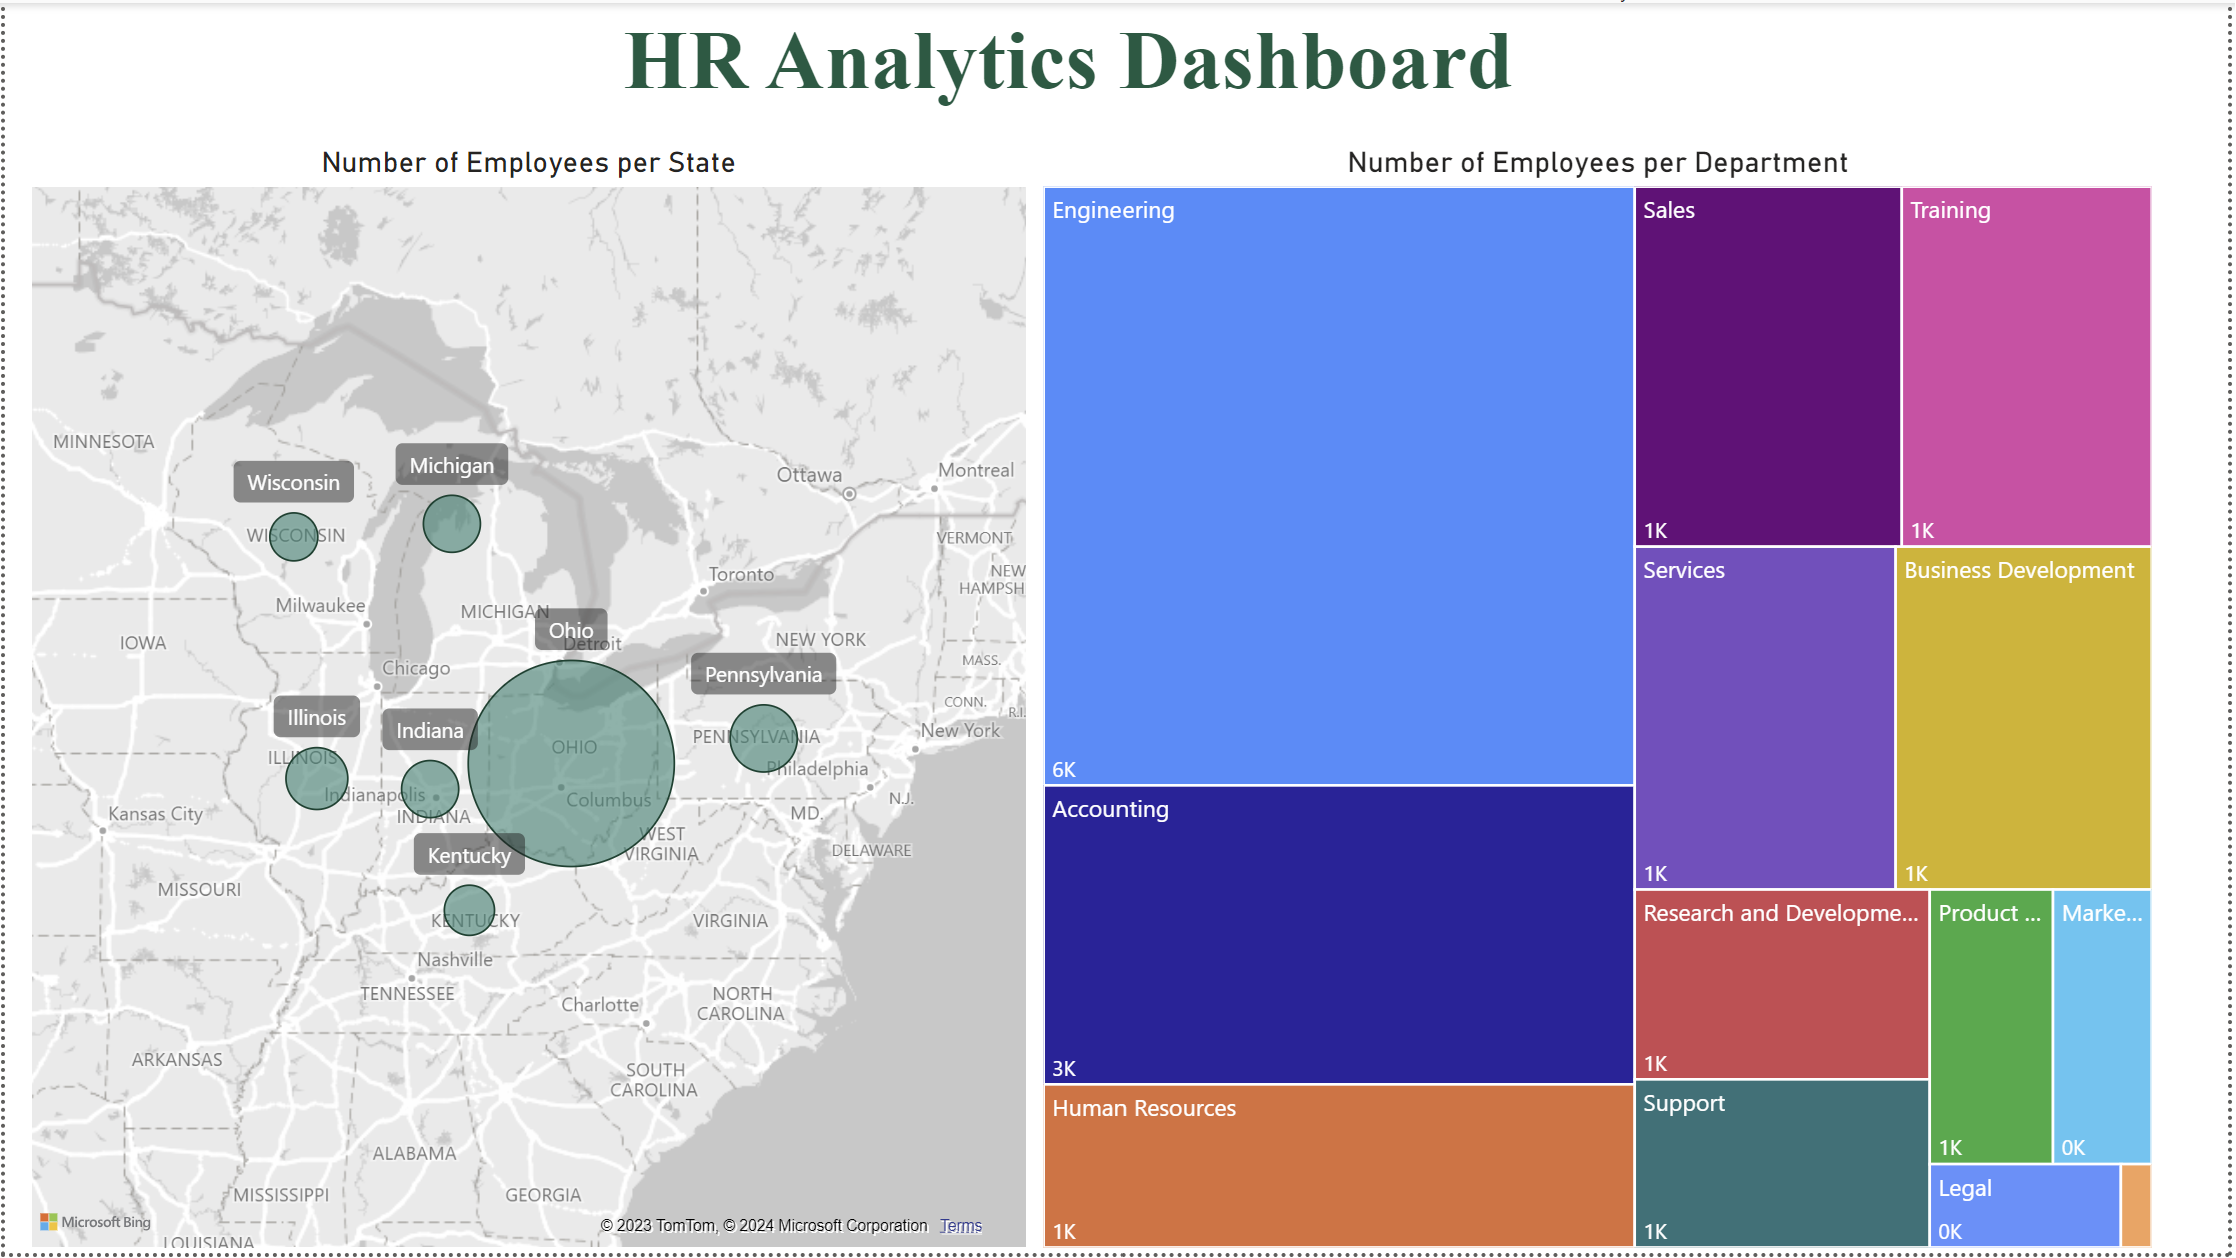

The page's visual inventory and layout, read from the dashboard file:
{"tool":"powerbi","page":{"name":"Page 2","canvas":[1280,720],"ordinal":1},"visuals":[{"type":"map","title":"Number of Employees per State","fields":{"Category":["location_state.location_state"],"Size":["Sum(location_state.COUNT)"]},"box":[10.2,81.6,582.6,640],"z":0},{"type":"treemap","title":"Number of Employees per Department","fields":{"Values":["Sum(employee per department.COUNT)"],"Group":["employee per department.department"]},"box":[592.8,81.6,647.6,640],"z":1000},{"type":"textbox","box":[99.4,0,1026.3,81.6],"z":2000}]}

Visuals, with their boxes in screenshot pixels (x1, y1, x2, y2), scaled from the page's 1280x720 canvas onto the 2236x1258 screenshot:
"Number of Employees per State" map: bbox(18, 143, 1036, 1257)
"Number of Employees per Department" treemap: bbox(1036, 143, 2167, 1257)
textbox: bbox(174, 0, 1966, 143)
